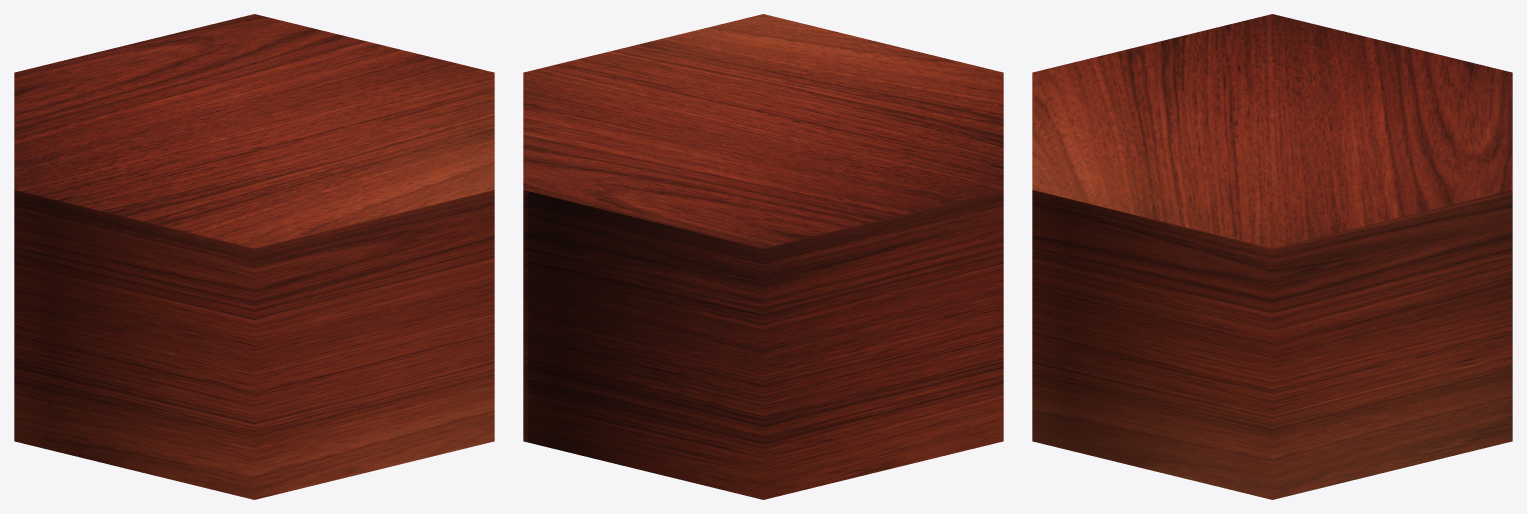
Rendered from mdl_HexTile.FBX.
The picture shows the model from 3 angles, left to right: view 1: azimuth 30°, elevation 25°; view 2: azimuth 150°, elevation 25°; view 3: azimuth 270°, elevation 25°; orthographic projection.
Visible parts, largest first — view 1: Cylinder001; view 2: Cylinder001; view 3: Cylinder001.
Boxes of the visible parts, bbox=[...] form: Cylinder001: bbox=[14, 14, 494, 499]; Cylinder001: bbox=[523, 14, 1003, 499]; Cylinder001: bbox=[1032, 14, 1512, 499].
Size of the model in its own units: 1 by 0.5 by 0.866.
1 material, 1 textured.
